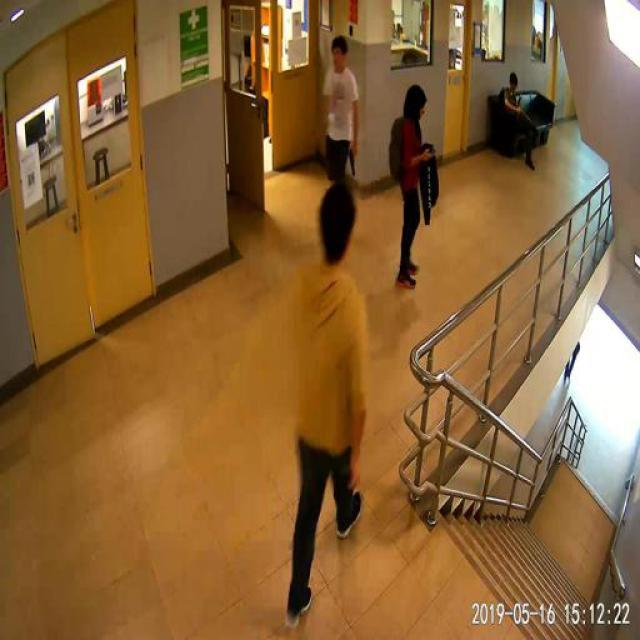weapon: (345, 144, 357, 176)
